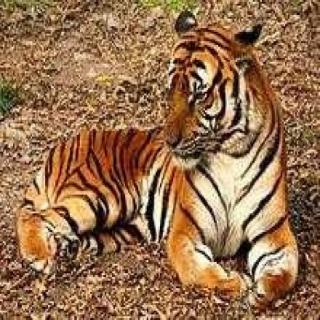Tiger: (27, 9, 310, 320)
